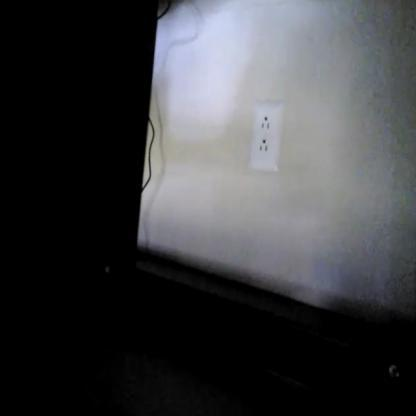OUTLET: (249, 102, 282, 172)
